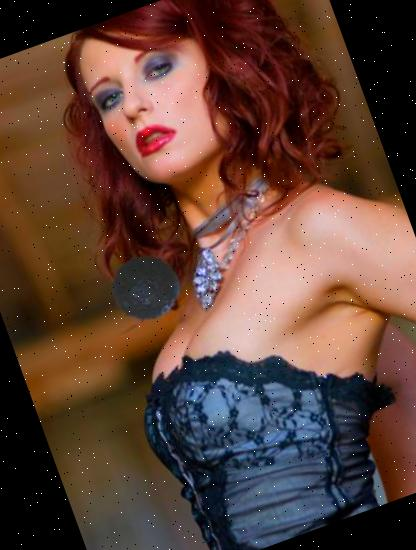Avocado: (100, 238, 194, 332)
